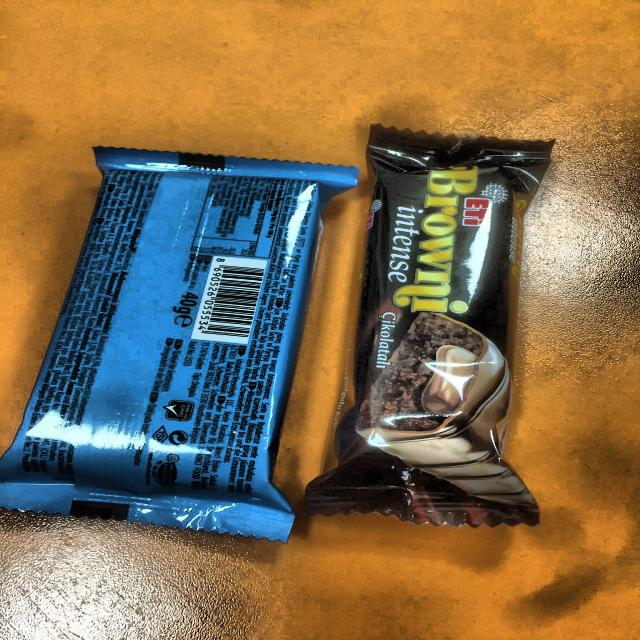Plastic: (0, 143, 357, 542), (297, 127, 553, 525)
